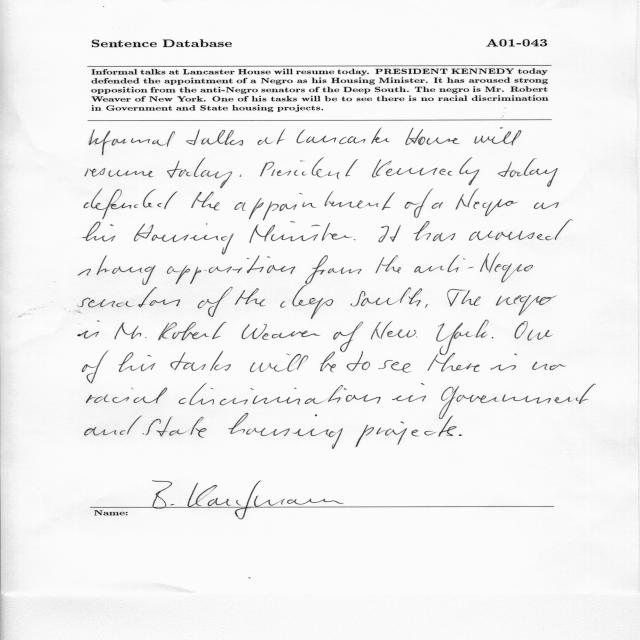word: (90, 481, 344, 507), (439, 384, 596, 420), (234, 192, 395, 221), (179, 384, 381, 406), (228, 413, 343, 449), (167, 256, 295, 285), (414, 253, 533, 283), (356, 416, 457, 448), (134, 223, 234, 255), (372, 158, 479, 185), (84, 189, 177, 219), (78, 287, 180, 313), (79, 255, 156, 285), (250, 221, 352, 243), (469, 220, 573, 241), (89, 130, 175, 155), (260, 158, 358, 179), (167, 158, 232, 188), (437, 320, 489, 355), (280, 285, 333, 319), (498, 158, 558, 187), (456, 189, 518, 216), (305, 255, 362, 284), (297, 128, 390, 144), (142, 416, 207, 438), (351, 288, 423, 307), (158, 322, 227, 341), (87, 388, 168, 404), (496, 295, 557, 316), (242, 324, 320, 340), (170, 351, 231, 371), (85, 416, 141, 436), (198, 287, 233, 317), (250, 354, 308, 372), (428, 353, 480, 372), (186, 129, 243, 146), (406, 128, 460, 145), (333, 322, 363, 352), (474, 128, 521, 146), (404, 189, 433, 218), (414, 221, 456, 241), (83, 351, 109, 383), (371, 321, 417, 339), (515, 321, 552, 341), (119, 352, 156, 372), (83, 222, 116, 242), (392, 383, 426, 402), (85, 168, 154, 177), (447, 289, 481, 306), (191, 192, 220, 211), (114, 323, 146, 340), (235, 289, 265, 307), (375, 256, 401, 274), (257, 129, 286, 145), (347, 351, 370, 371), (490, 354, 517, 371), (379, 360, 412, 373), (78, 321, 100, 339), (378, 226, 401, 243), (320, 352, 336, 373), (532, 362, 566, 370), (534, 202, 559, 209), (432, 202, 443, 209), (425, 304, 428, 308), (240, 174, 242, 177), (459, 434, 462, 436), (354, 239, 356, 240), (492, 337, 494, 338)
